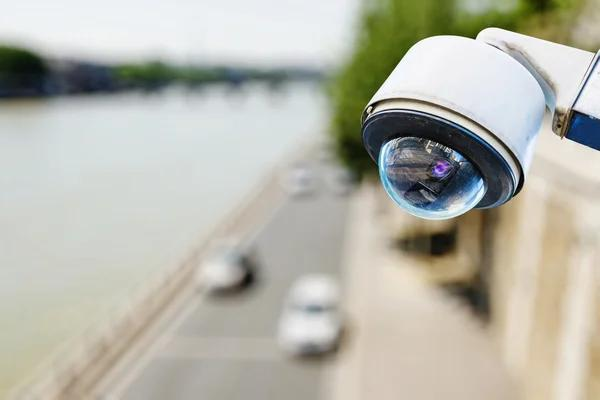360-Cam: (354, 31, 552, 236)
